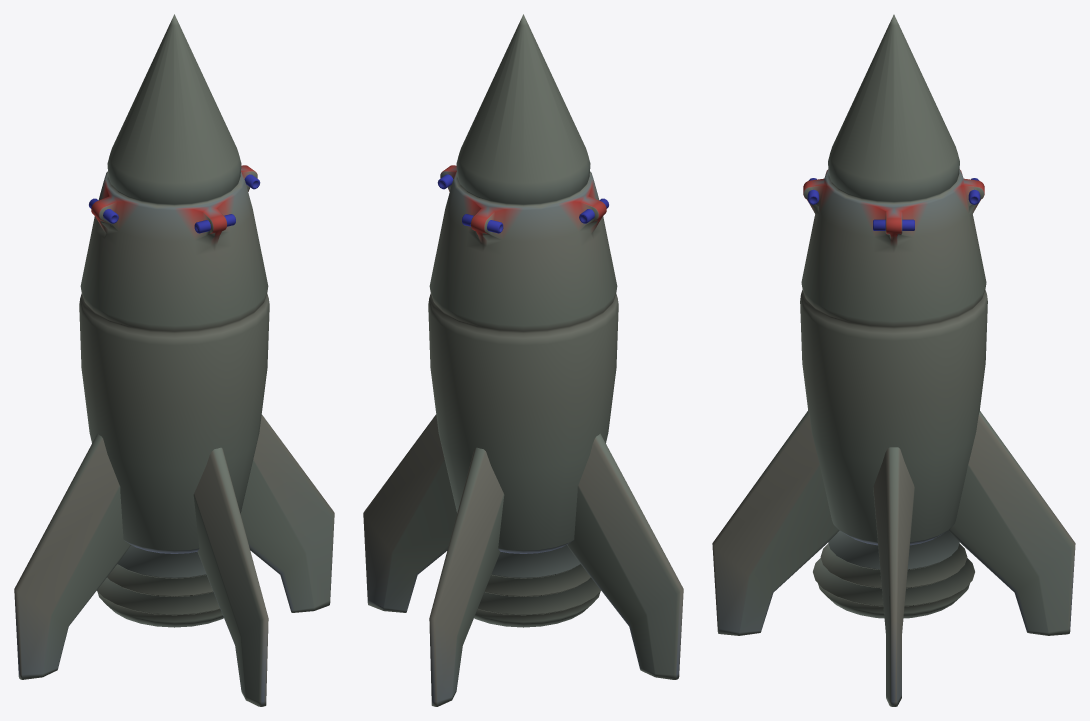
File: SM_ExampleMesh_Rocket.FBX
3 renders of one model, left to right at view 1: azimuth 30°, elevation 25°; view 2: azimuth 150°, elevation 25°; view 3: azimuth 270°, elevation 25°, orthographic.
Visible parts, largest first — view 1: SM_ExampleMesh_Rocket; view 2: SM_ExampleMesh_Rocket; view 3: SM_ExampleMesh_Rocket.
Part boxes in pixels (<box>): SM_ExampleMesh_Rocket: <box>14,14,334,706</box>; SM_ExampleMesh_Rocket: <box>363,14,683,706</box>; SM_ExampleMesh_Rocket: <box>712,14,1075,706</box>.
Bounding box in the file's own units: 384 × 384 × 721.
